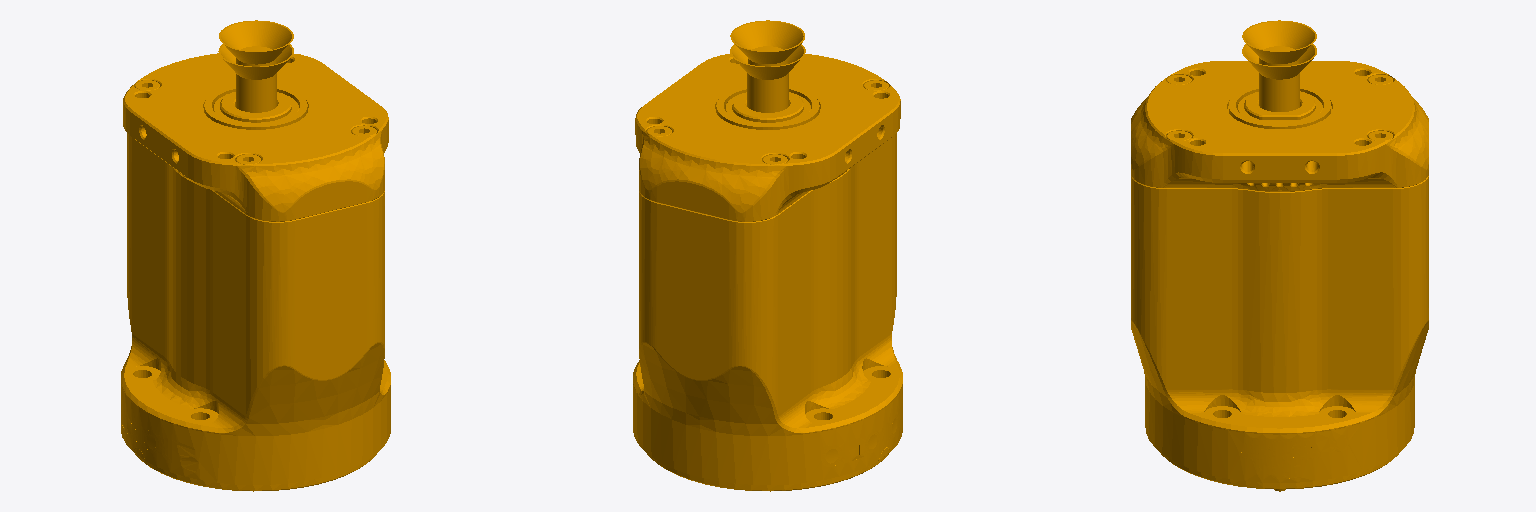
The robot description file, URDF, robot "universal_robot":
<?xml version="1.0" ?>
<!--FOR GRIPPER, THERE IS NO LINK INERTIA DEFINED HERE-->
<robot name="universal_robot">
  <link name="base_link">
  	<inertial>
       <origin rpy="0 0 0" xyz="0 0 0"/>
       <mass value=".81"/>
       <inertia ixx="1" ixy="0" ixz="0" iyy="1" iyz="0" izz="1"/>
    </inertial>
    <visual>
      <geometry>
        <mesh filename="magnet/magnet.stl"/>
      </geometry>
    </visual>
    <collision>
      <geometry>
        <mesh filename="magnet/magnet.stl"/>
      </geometry>
    </collision>
  </link>
</robot>

--- What the picture shows (computed from the rendered views, not written in the file) ---
Views: 3 orthographic renders of the robot side by side, from view 1: azimuth 30°, elevation 25°; view 2: azimuth 150°, elevation 25°; view 3: azimuth 270°, elevation 25°.
Robot: universal_robot — 1 links, 0 joints (none); root link base_link; default pose: all joints at 0.
Links seen in each view (by area): view 1: base_link; view 2: base_link; view 3: base_link.
Boxes of the visible links, x1,y1,x2,y2 form: base_link: (121,20,390,491); base_link: (633,20,902,491); base_link: (1131,20,1428,491).
Bounding box of the posed robot: 0.075 × 0.083 × 0.1251 m (x, y, z).
1 mesh visuals loaded from 1 distinct referenced files (1 binary STL).